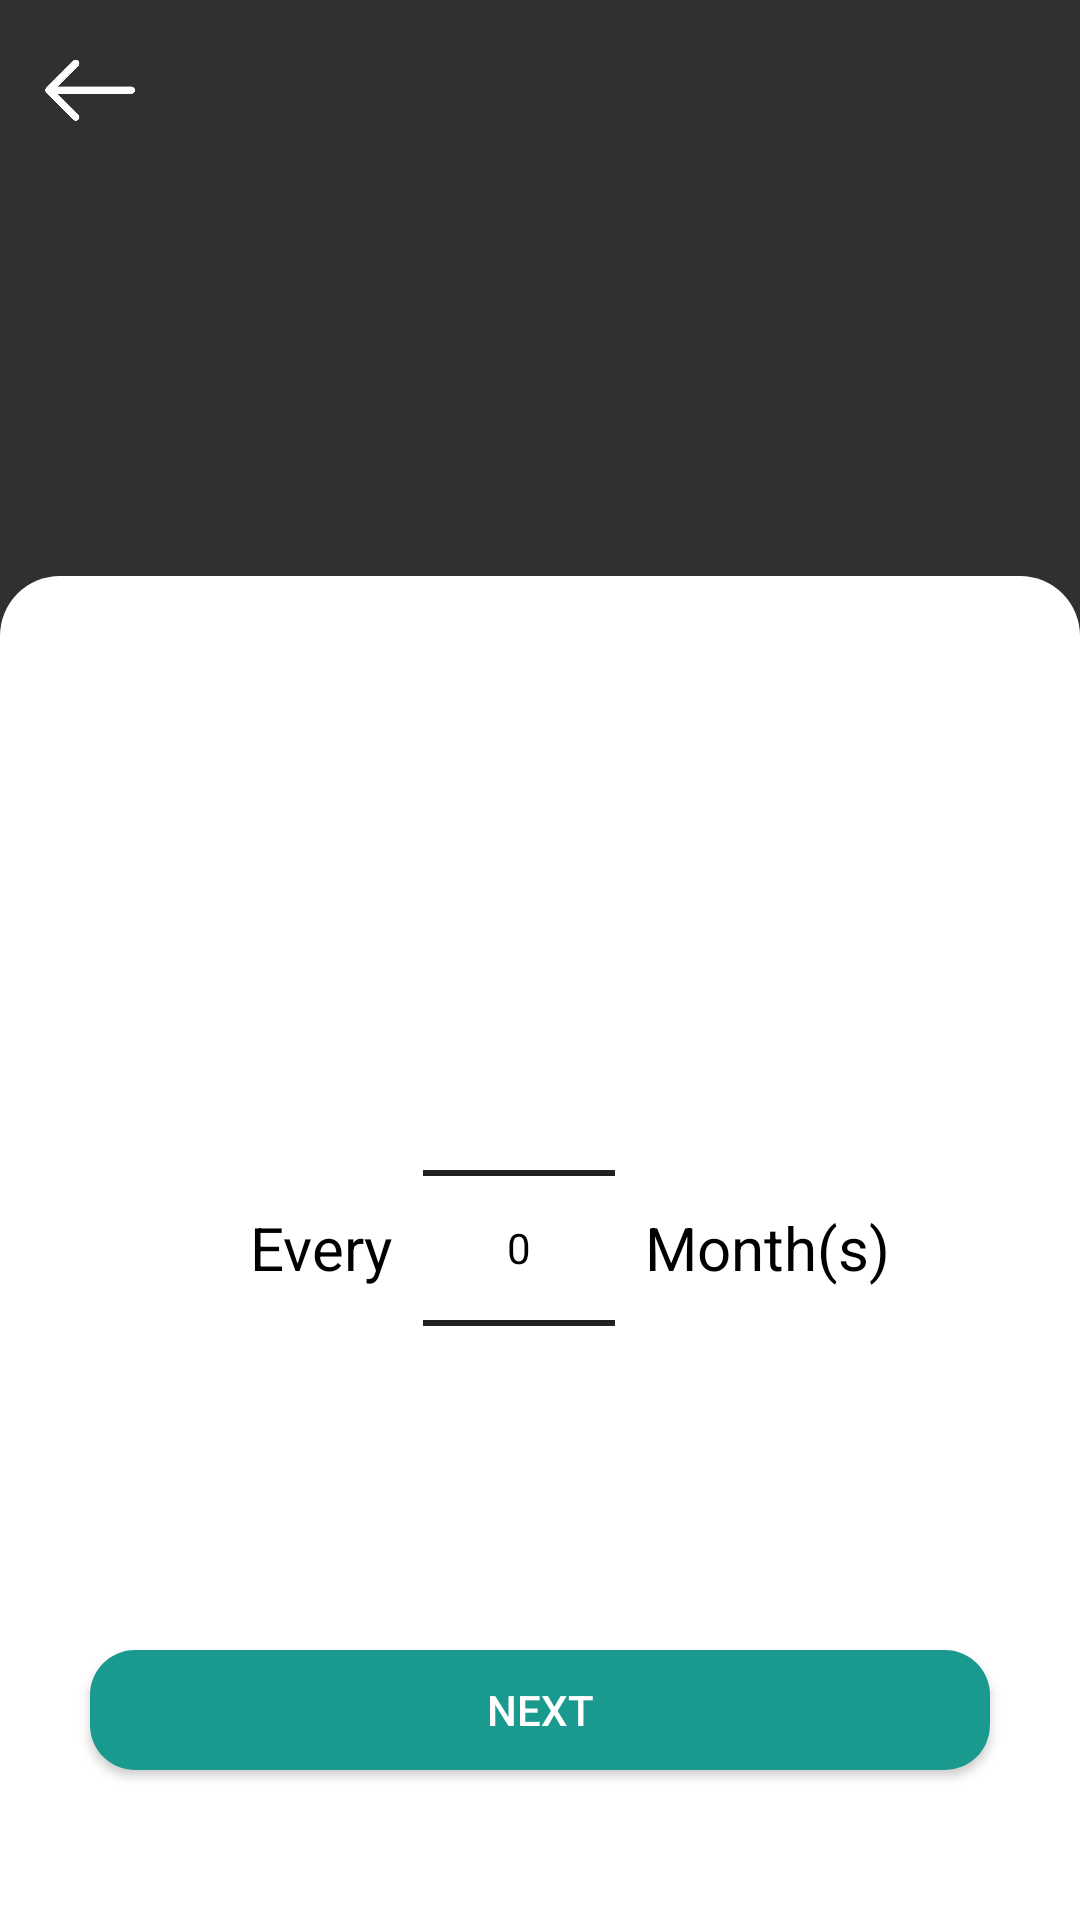

Icons on this 1080×1920 Android screen, each with the point to tap as [x,y]:
back: [90,90]
